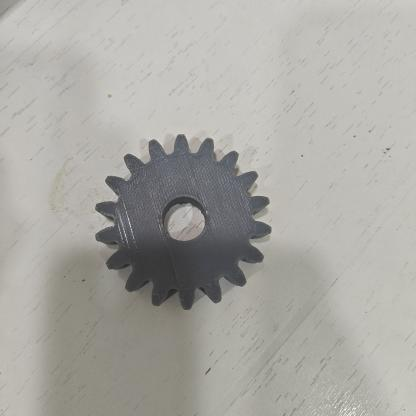gear: (85, 129, 288, 320)
